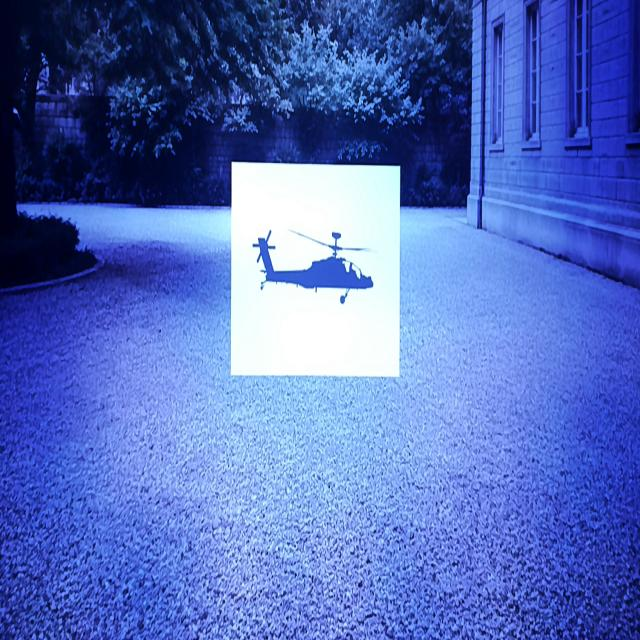Apache friendly: (253, 230, 372, 303)
